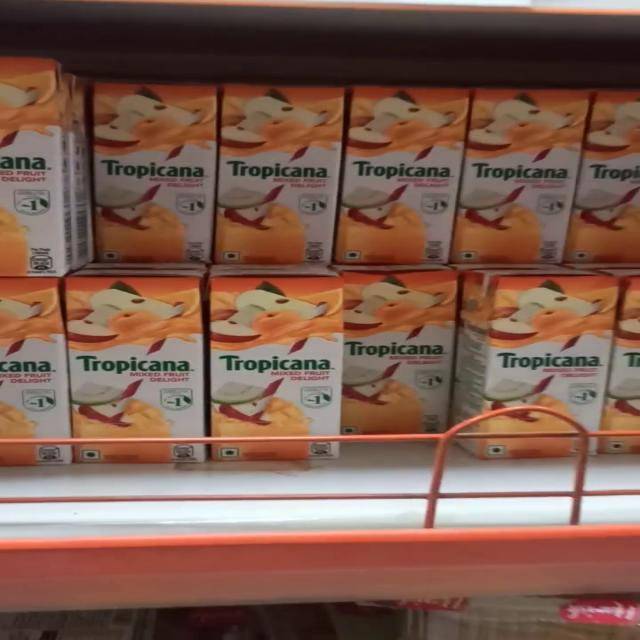Tropicana: (212, 258, 342, 465), (210, 80, 352, 266), (71, 270, 203, 468), (490, 271, 626, 459), (75, 79, 207, 267), (345, 84, 474, 262), (344, 272, 468, 442), (468, 86, 584, 262)
